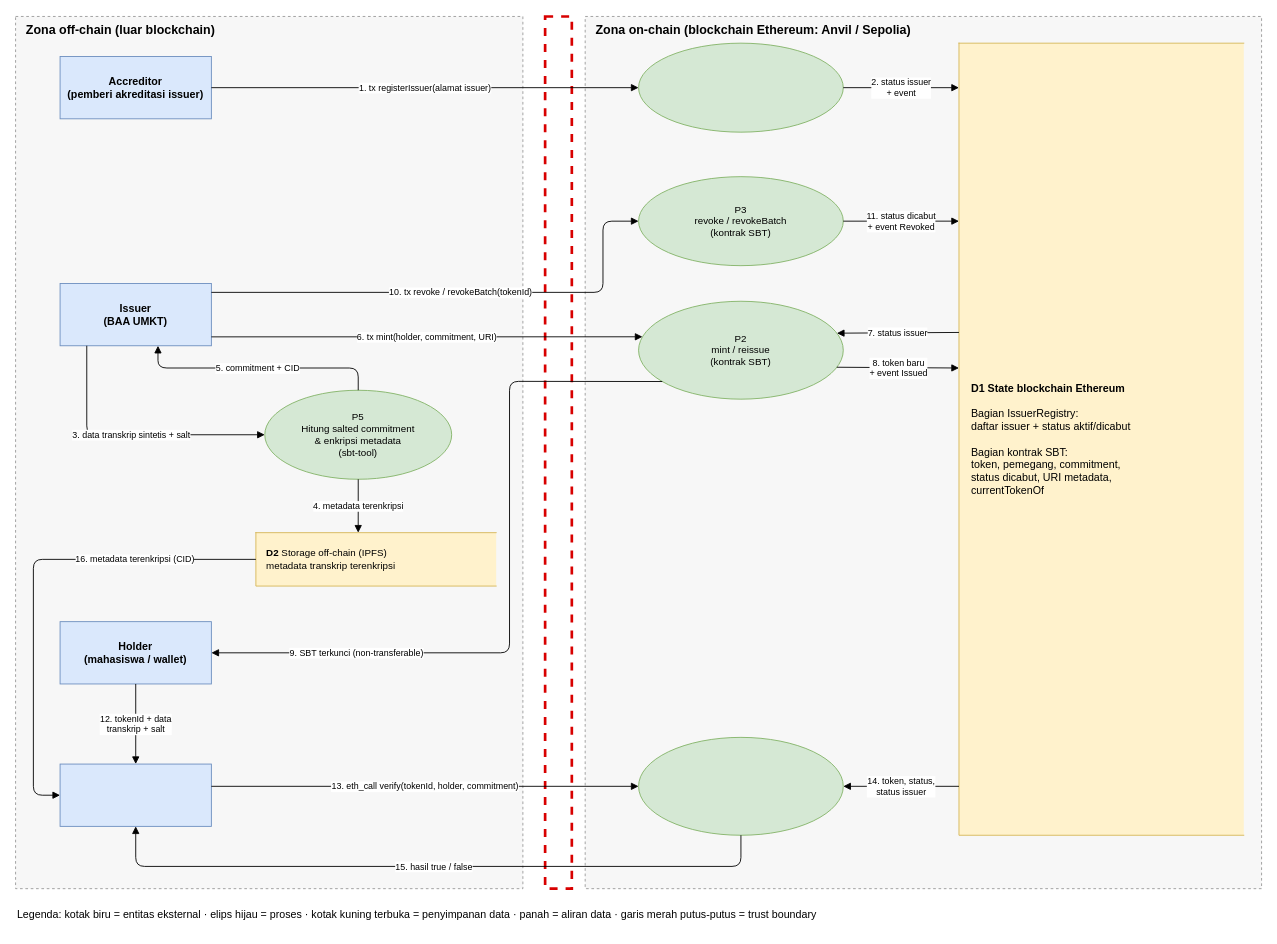
Image size: 1277x944. Some labels were removed from this diagram. Here are the shapes that lost their labels. From the top down, the centre of each, then its label:
point (740, 87): P1 registerIssuer / revokeIssuer (IssuerRegistry)
point (558, 452): TRUST BOUNDARY
point (135, 794): Verifier (pihak luar)
point (740, 785): P4 verify / tokenURI (kontrak SBT, read-only)
